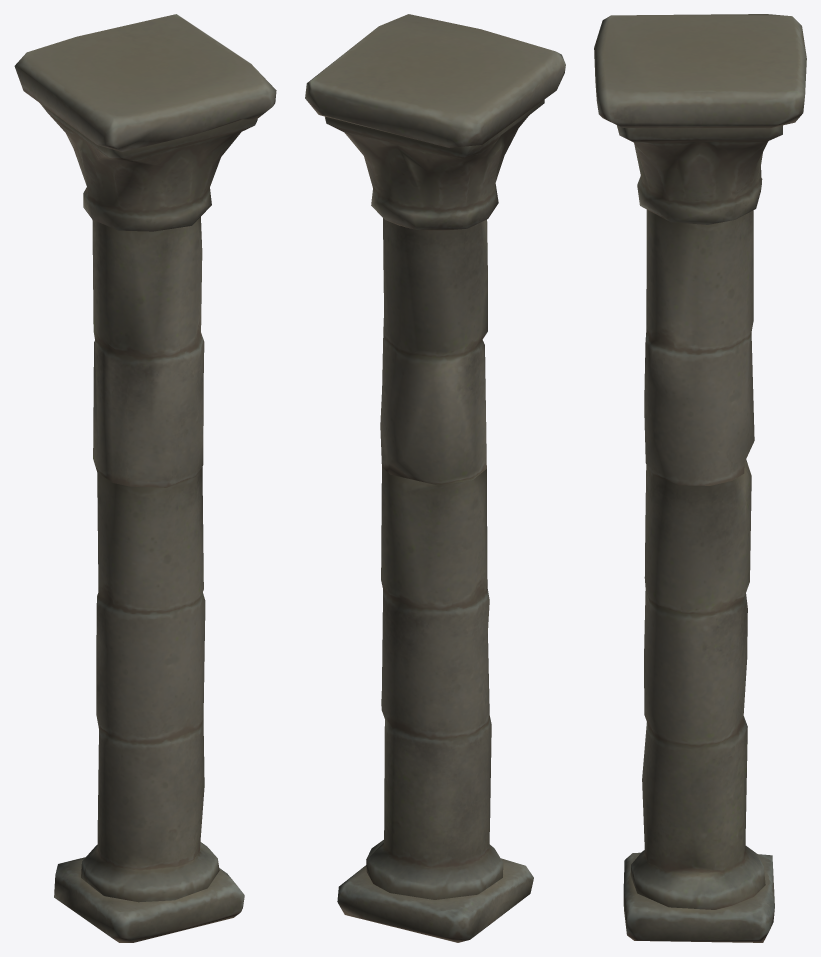
File: SM_FW01_Ruins_Decor_Column_6m_01.fbx
3 renders of one model, left to right at view 1: azimuth 30°, elevation 25°; view 2: azimuth 150°, elevation 25°; view 3: azimuth 270°, elevation 25°, orthographic. The views are drawn at different scales.
Parts seen in each view (by area): view 1: SM_FW01_Ruins_Decor_Column_6m_01_LOD0; view 2: SM_FW01_Ruins_Decor_Column_6m_01_LOD0; view 3: SM_FW01_Ruins_Decor_Column_6m_01_LOD0.
Part boxes in pixels (left/top/right/bottom): SM_FW01_Ruins_Decor_Column_6m_01_LOD0: left=14, top=14, right=276, bottom=942; SM_FW01_Ruins_Decor_Column_6m_01_LOD0: left=305, top=14, right=565, bottom=942; SM_FW01_Ruins_Decor_Column_6m_01_LOD0: left=594, top=14, right=806, bottom=942.
Size of what is drawn, in the model's own units: 1.32 by 6.05 by 1.36.
